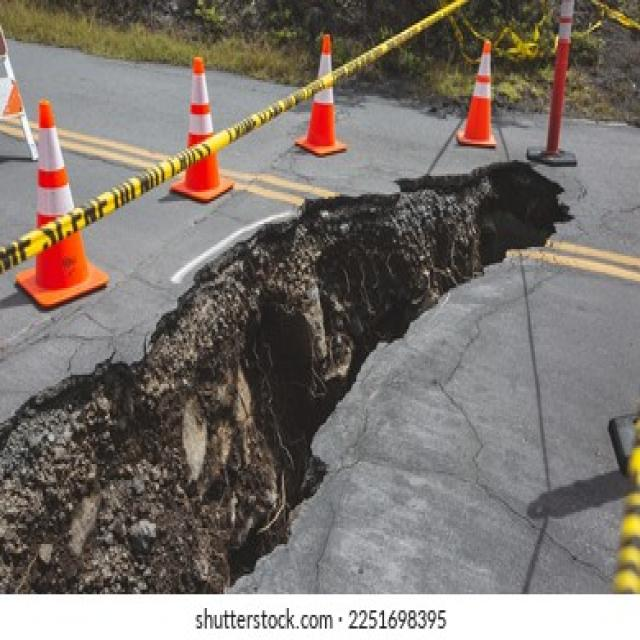road collapse: (0, 113, 602, 599)
